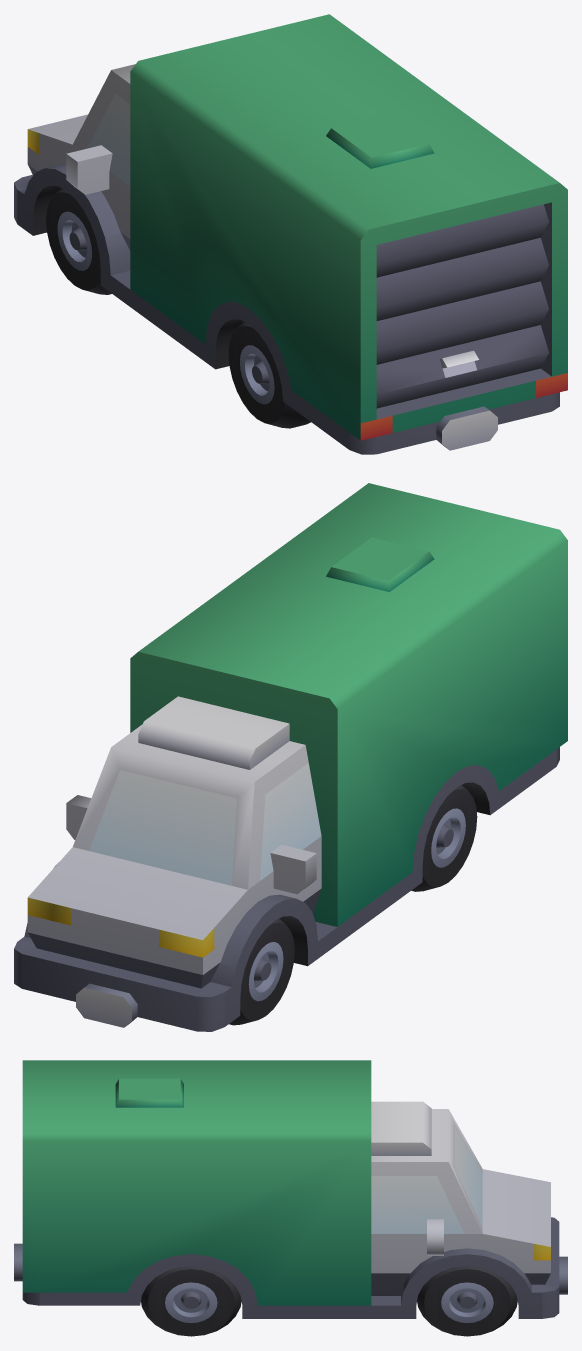
Rendered from kenney-van.glb.
3 renders of one model, top to bottom at view 1: azimuth 30°, elevation 25°; view 2: azimuth 150°, elevation 25°; view 3: azimuth 270°, elevation 25°, orthographic. The views are drawn at different scales.
Visible parts, largest first — view 1: body, door, wheel-back-left, wheel-front-left; view 2: body, wheel-back-left, wheel-front-left; view 3: body, wheel-back-right, wheel-front-right.
Part boxes in pixels (left/top/right/bottom): body: left=14, top=14, right=567, bottom=454; door: left=376, top=204, right=548, bottom=408; wheel-back-left: left=228, top=322, right=310, bottom=428; wheel-front-left: left=46, top=188, right=111, bottom=294; body: left=14, top=483, right=567, bottom=1031; wheel-back-left: left=411, top=785, right=477, bottom=891; wheel-front-left: left=229, top=918, right=294, bottom=1025; body: left=14, top=1060, right=567, bottom=1318; wheel-back-right: left=141, top=1266, right=241, bottom=1336; wheel-front-right: left=417, top=1266, right=517, bottom=1336.
Size of the model in its own units: 2 by 2.3 by 5.3.
